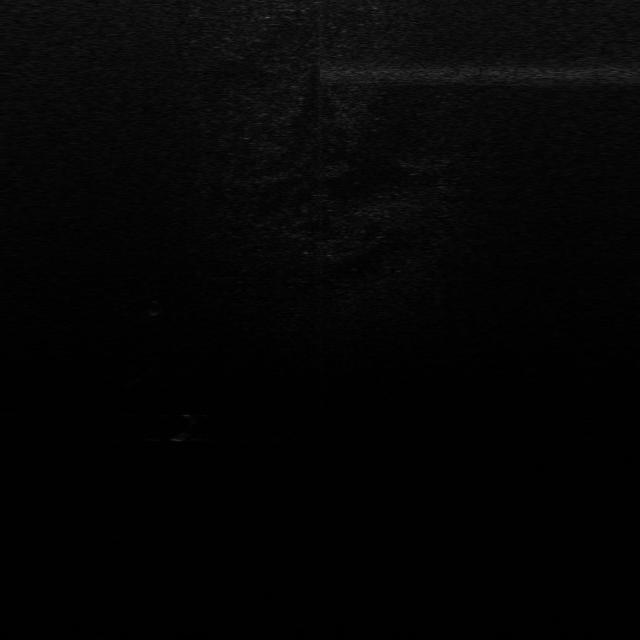square cage: (146, 300, 166, 318)
tyre: (167, 414, 199, 441)
